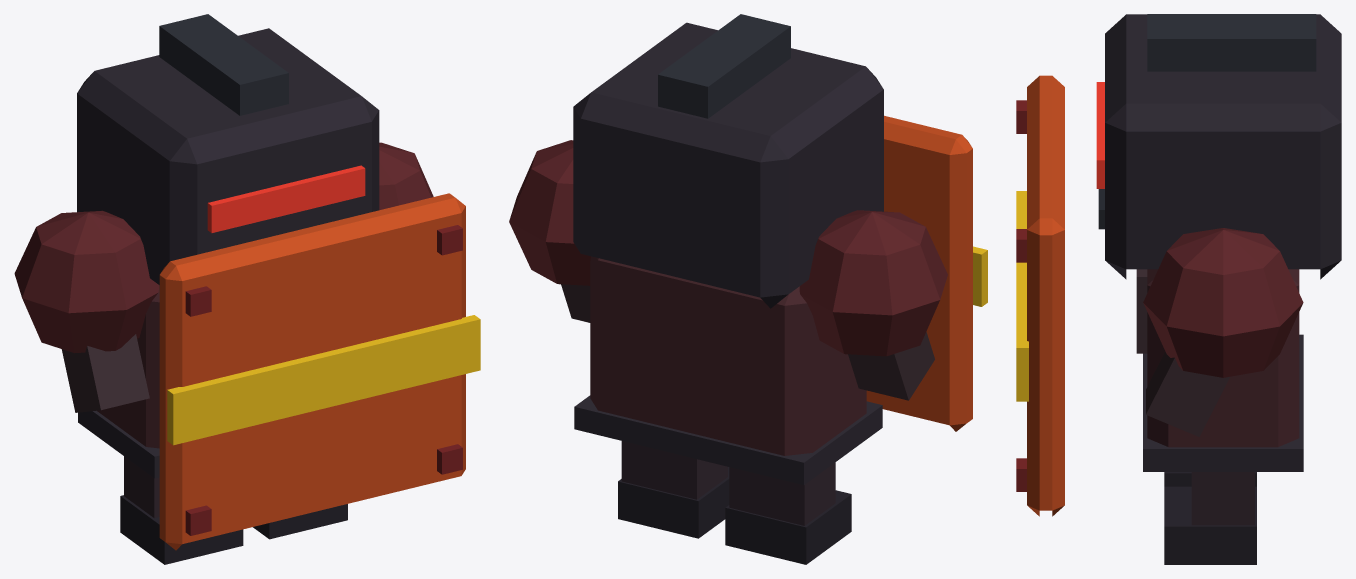
Rendered from brute_r3.glb.
3 renders of one model, left to right at view 1: azimuth 30°, elevation 25°; view 2: azimuth 150°, elevation 25°; view 3: azimuth 270°, elevation 25°, orthographic. The views are drawn at different scales.
Parts seen in each view (by area): view 1: brute_r3_mesh; view 2: brute_r3_mesh; view 3: brute_r3_mesh.
Part boxes in pixels (x1,y1,x2,y2): brute_r3_mesh: (14,14,480,564); brute_r3_mesh: (509,14,987,564); brute_r3_mesh: (1016,14,1341,564).
Bounding box in the file's own units: 2.02 × 2.2 × 1.32.
1 material, 1 textured.
